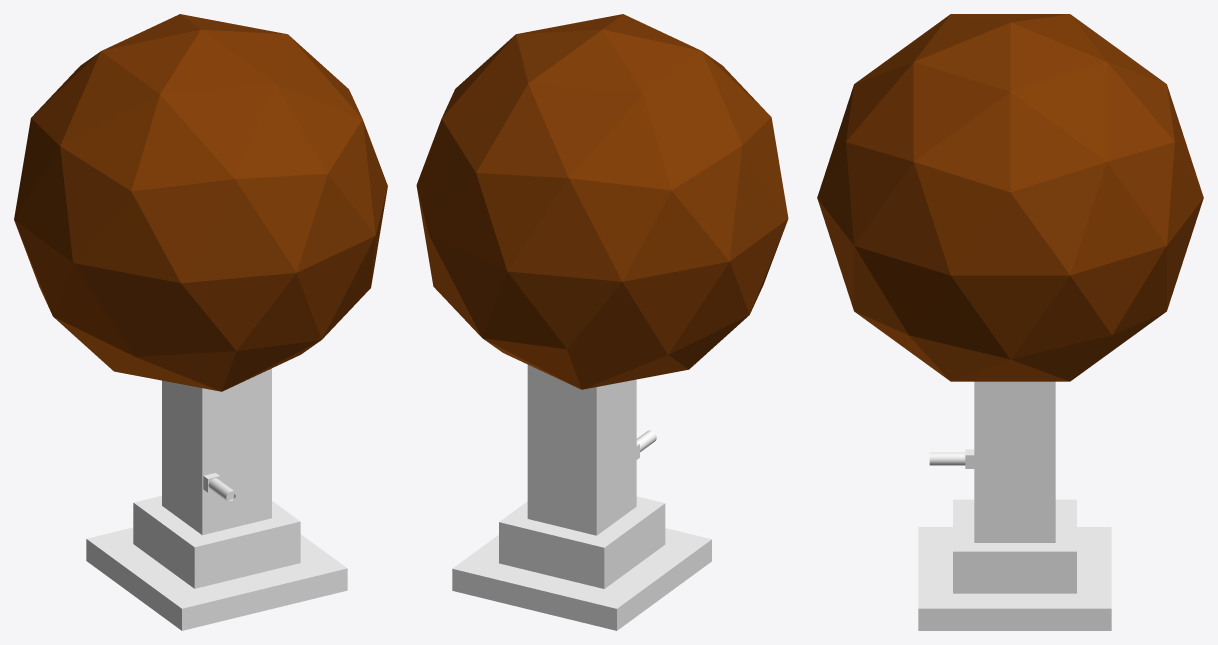
File: FinalBoss.fbx
3 views of the same model, side by side, from view 1: azimuth 30°, elevation 25°; view 2: azimuth 150°, elevation 25°; view 3: azimuth 270°, elevation 25° (orthographic).
Visible parts, largest first — view 1: FinalBoss; view 2: FinalBoss; view 3: FinalBoss.
Boxes of the visible parts, x1,y1,x2,y2 form: FinalBoss: [14, 14, 387, 630]; FinalBoss: [416, 14, 788, 630]; FinalBoss: [817, 14, 1203, 630].
Bounding box in the file's own units: 190 × 319 × 200.
